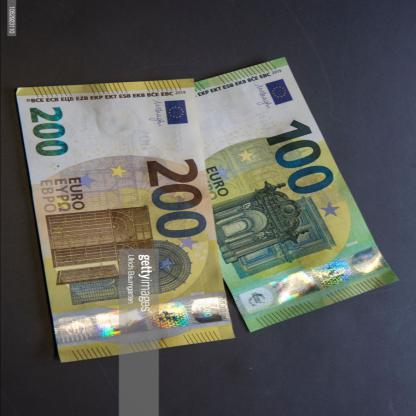euro_banknote: (137, 116, 405, 274)
